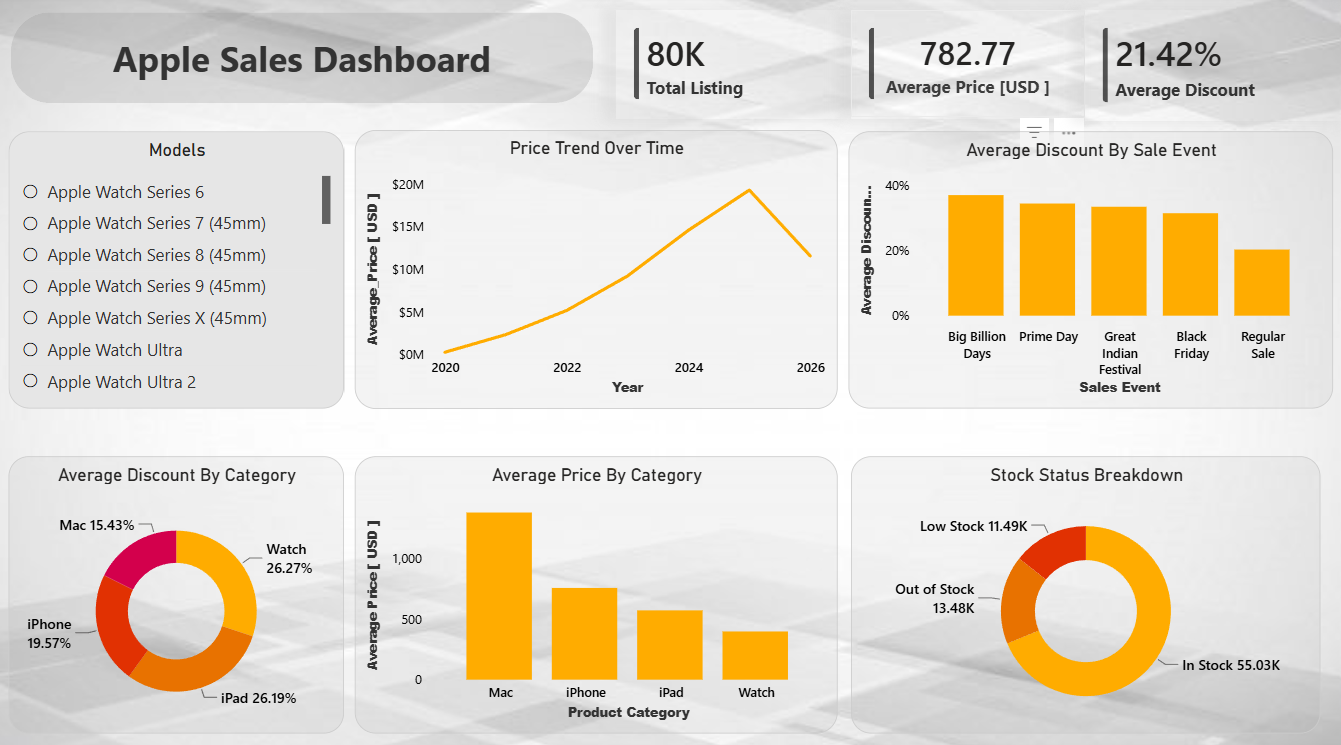

The dashboard page shown, as its layout file describes it:
{"tool":"powerbi","page":{"name":"Overview","canvas":[1280,720],"ordinal":0},"visuals":[{"type":"shape","box":[12.3,13.7,557.1,90.6],"z":0},{"type":"cardVisual","fields":{"Data":["Avg(apple_pricing_clean.current_price_usd)"]},"box":[811,13.7,222.3,102.9],"z":1000},{"type":"cardVisual","fields":{"Data":["CountNonNull(apple_pricing_clean.model_name)"]},"box":[588.7,13.7,222.3,102.9],"z":2000},{"type":"cardVisual","fields":{"Data":["Avg(apple_pricing_clean.discount_pct)"]},"box":[1033.3,13.7,247,105.7],"z":3000},{"type":"lineChart","title":"Price Trend Over Time","fields":{"Category":["DateTable.Year"],"Y":["Sum(apple_pricing_clean.current_price_usd)"]},"box":[340.3,127.6,458.3,264.8],"z":4000},{"type":"clusteredColumnChart","title":"Average Price By Category","fields":{"Category":["apple_pricing_clean.product_category"],"Y":["Avg(apple_pricing_clean.current_price_usd)"]},"box":[340.3,437.7,458.3,263.5],"z":5000},{"type":"donutChart","title":"Average Discount By Category","fields":{"Category":["apple_pricing_clean.product_category"],"Y":["Avg(apple_pricing_clean.discount_pct)"]},"box":[12.3,437.7,318.4,263.5],"z":6000},{"type":"listSlicer","title":"Models","fields":{"Values":["apple_pricing_clean.model_name"]},"box":[12.3,129,318.4,263.5],"z":7000},{"type":"clusteredColumnChart","title":"Average Discount By Sale Event","fields":{"Category":["apple_pricing_clean.sale_event"],"Y":["Avg(apple_pricing_clean.discount_pct)"]},"box":[809.6,129,459.7,263.5],"z":8000},{"type":"donutChart","title":"Stock Status Breakdown","fields":{"Category":["apple_pricing_clean.stock_status"],"Y":["CountNonNull(apple_pricing_clean.model_name)"]},"box":[811,437.7,446,263.5],"z":9000}]}

Visuals, with their boxes in screenshot pixels (x1, y1, x2, y2), scaled from the page's 1280x720 canvas onto the 1341x745 screenshot:
shape: [left=13, top=14, right=597, bottom=108]
cardVisual - Avg(apple_pricing_clean.current_price_usd): [left=850, top=14, right=1083, bottom=121]
cardVisual - CountNonNull(apple_pricing_clean.model_name): [left=617, top=14, right=850, bottom=121]
cardVisual - Avg(apple_pricing_clean.discount_pct): [left=1083, top=14, right=1340, bottom=124]
"Price Trend Over Time" lineChart: [left=357, top=132, right=837, bottom=406]
"Average Price By Category" clusteredColumnChart: [left=357, top=453, right=837, bottom=726]
"Average Discount By Category" donutChart: [left=13, top=453, right=346, bottom=726]
"Models" listSlicer: [left=13, top=133, right=346, bottom=406]
"Average Discount By Sale Event" clusteredColumnChart: [left=848, top=133, right=1330, bottom=406]
"Stock Status Breakdown" donutChart: [left=850, top=453, right=1317, bottom=726]
